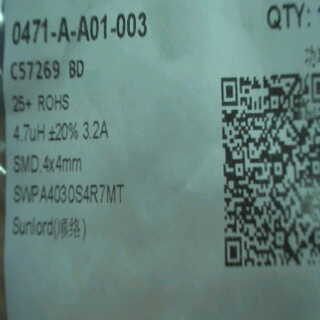4.7uH: (10, 118, 46, 149)
